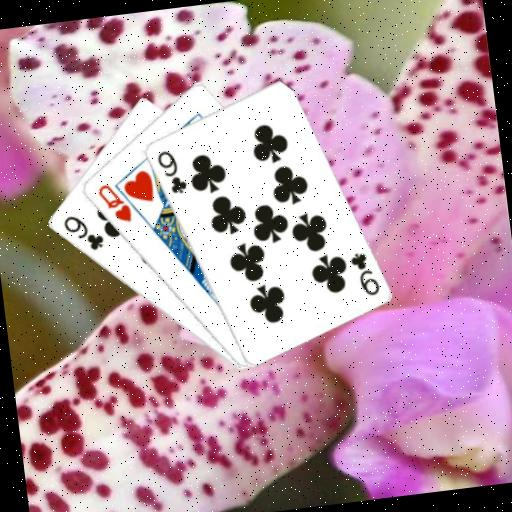9C: (60, 209, 107, 256), (153, 146, 190, 198), (346, 247, 382, 299)
QH: (93, 179, 134, 228)
